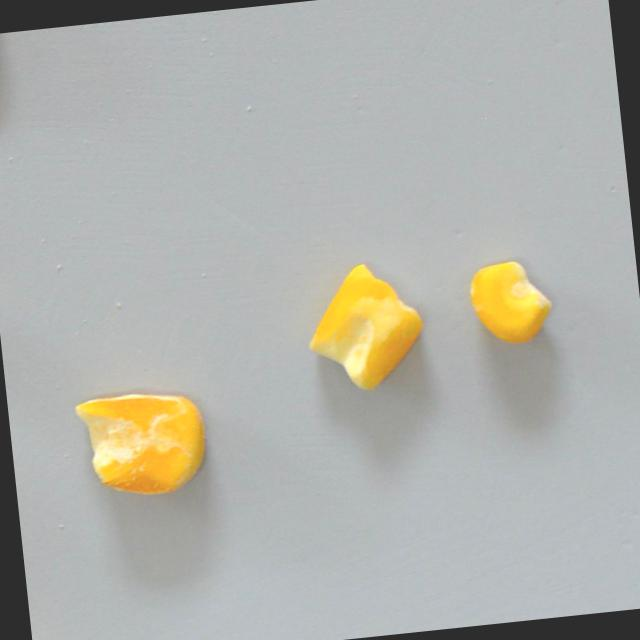agrietado: (71, 372, 220, 504)
no_canjicado: (298, 257, 430, 396), (465, 253, 560, 348)
